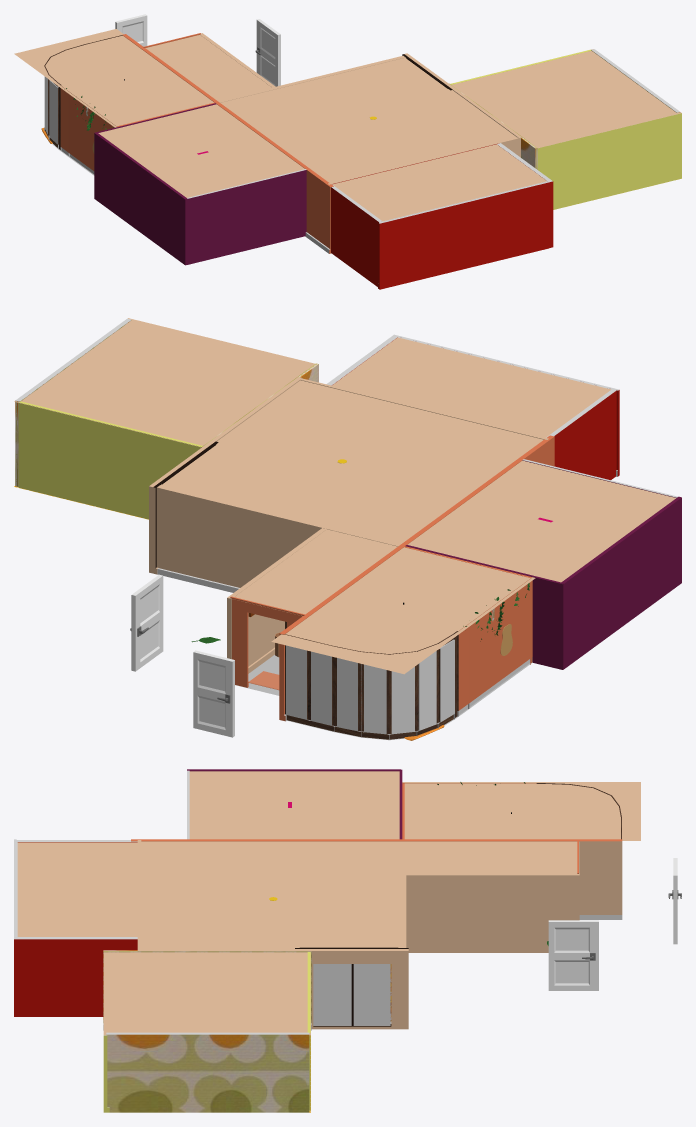
Rendered from AppartementCharlieLeVrai.fbx.
3 views of the same model, one above another, from view 1: azimuth 30°, elevation 25°; view 2: azimuth 150°, elevation 25°; view 3: azimuth 270°, elevation 25° (orthographic). The views are drawn at different scales.
Visible parts, largest first — view 1: Plafond es, Plafond c, sdb.mur plain 3, Plafond chambre, Plafond studio, cuisine.mur plain 4, Plafond sdb, chambre.mur plain 4, chambre.mur plain 3, studio.sol et mur incurvé, sdb.mur plain 2, salon.mur plain 4 (+7 smaller); view 2: Plafond es, Plafond c, studio.sol et mur incurvé, Plafond chambre, Plafond studio, Plafond sdb, cuisine.mur plain 3, salon.entree.mur plain 1, chambre.mur plain 3, sdb.mur plain 2, porte entrée, chambre.mur plain 2 (+8 smaller); view 3: Plafond es, Plafond c, cuisine.mur papier fleur 2, Plafond chambre, Plafond studio, entree.mur plain 2, Plafond sdb, sdb.mur plain 4, salon.mur plain 4, salon.plane fenetre, salon.mur plain 2, porte (+4 smaller).
Part boxes in pixels (x1,y1,x2,y2): Plafond es: (145,35,516,182); Plafond c: (452,49,681,147); sdb.mur plain 3: (378,181,549,289); Plafond chambre: (98,104,304,197); Plafond studio: (14,29,213,127); cuisine.mur plain 4: (537,113,681,209); Plafond sdb: (332,144,546,221); chambre.mur plain 4: (187,169,306,264); chambre.mur plain 3: (94,132,188,265); studio.sol et mur incurvé: (44,35,122,175); sdb.mur plain 2: (331,184,382,286); salon.mur plain 4: (122,34,333,253); Plafond es: (160,380,543,616); Plafond c: (14,318,314,447); studio.sol et mur incurvé: (284,577,532,740); Plafond chambre: (407,460,675,582); Plafond studio: (271,547,535,674); Plafond sdb: (332,337,611,437); cuisine.mur plain 3: (18,401,202,519); salon.entree.mur plain 1: (156,485,400,592); chambre.mur plain 3: (561,496,681,668); sdb.mur plain 2: (546,389,616,479); porte entrée: (193,650,234,737); chambre.mur plain 2: (405,545,563,669); Plafond es: (141,841,579,948); Plafond c: (103,952,310,1035); cuisine.mur papier fleur 2: (106,1032,309,1112); Plafond chambre: (189,771,399,839); Plafond studio: (402,782,640,840); entree.mur plain 2: (406,873,579,952); Plafond sdb: (17,842,137,936); sdb.mur plain 4: (14,937,137,1016); salon.mur plain 4: (131,839,622,919); salon.plane fenetre: (313,964,390,1025); salon.mur plain 2: (137,947,408,1029); porte: (548,920,598,990).
Bounding box in the file's own units: 5279 × 768 × 5607.
